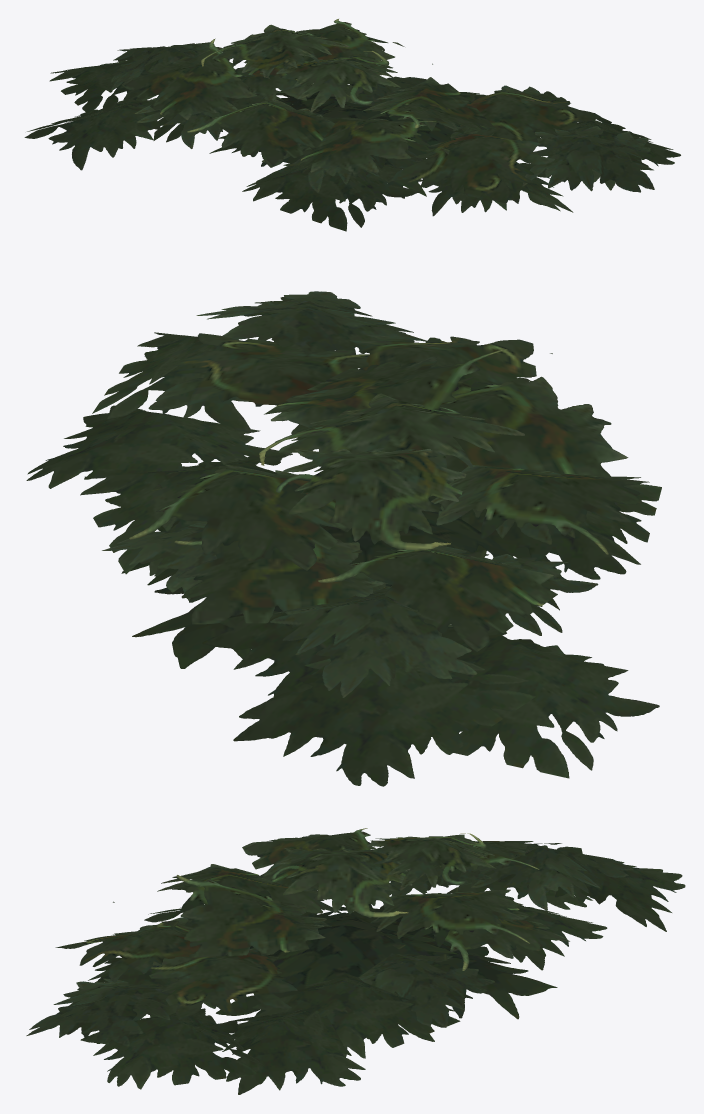
File: bush_01.fbx
The picture shows the model from 3 angles, top to bottom: view 1: azimuth 30°, elevation 25°; view 2: azimuth 150°, elevation 25°; view 3: azimuth 270°, elevation 25°; orthographic projection. The views are drawn at different scales.
Parts seen in each view (by area): view 1: bush_01; view 2: bush_01; view 3: bush_01.
Part boxes in pixels (left/top/right/bottom): bush_01: left=24, top=19, right=680, bottom=231; bush_01: left=26, top=291, right=661, bottom=786; bush_01: left=26, top=828, right=685, bottom=1094.
Bounding box in the file's own units: 24197 × 5434 × 26127.
